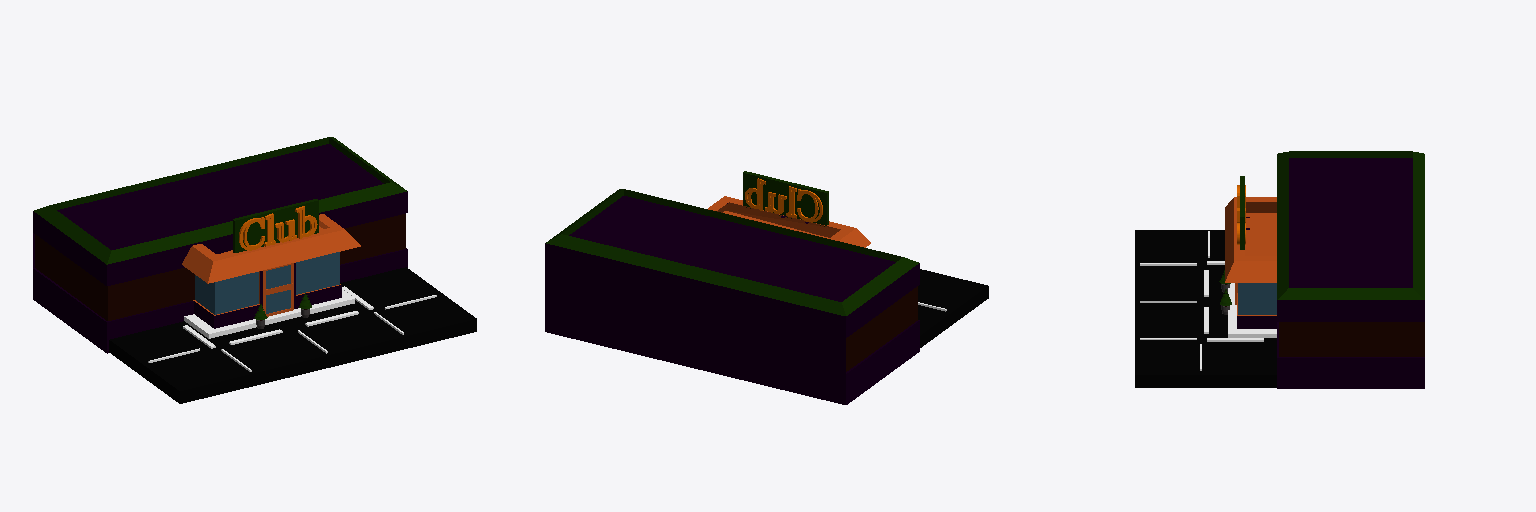
Rendered from Club_1260.obj.
3 renders of one model, left to right at view 1: azimuth 30°, elevation 25°; view 2: azimuth 150°, elevation 25°; view 3: azimuth 270°, elevation 25°, orthographic.
Parts seen in each view (by area): view 1: Box001; view 2: Box001; view 3: Box001.
Boxes of the visible parts, x1=… form: Box001: x1=33, y1=137, x2=476, y2=403; Box001: x1=545, y1=171, x2=988, y2=404; Box001: x1=1135, y1=151, x2=1424, y2=388.
Bounding box in the file's own units: 201 × 76.59 × 167.